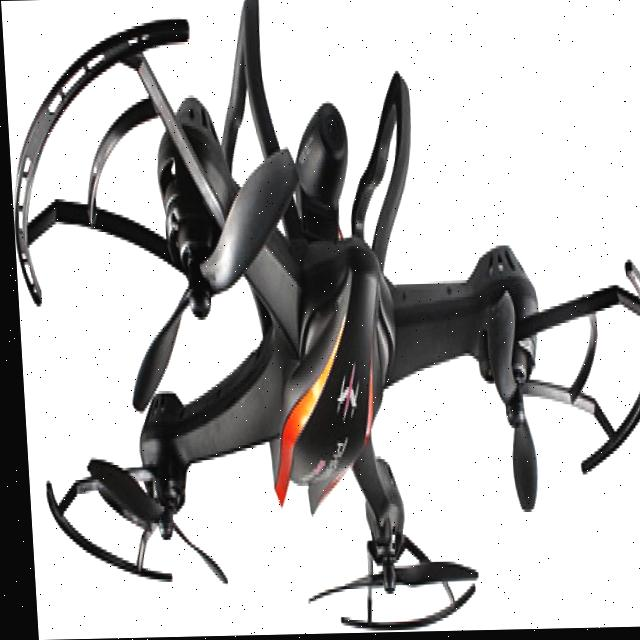drone: (3, 5, 640, 620)
